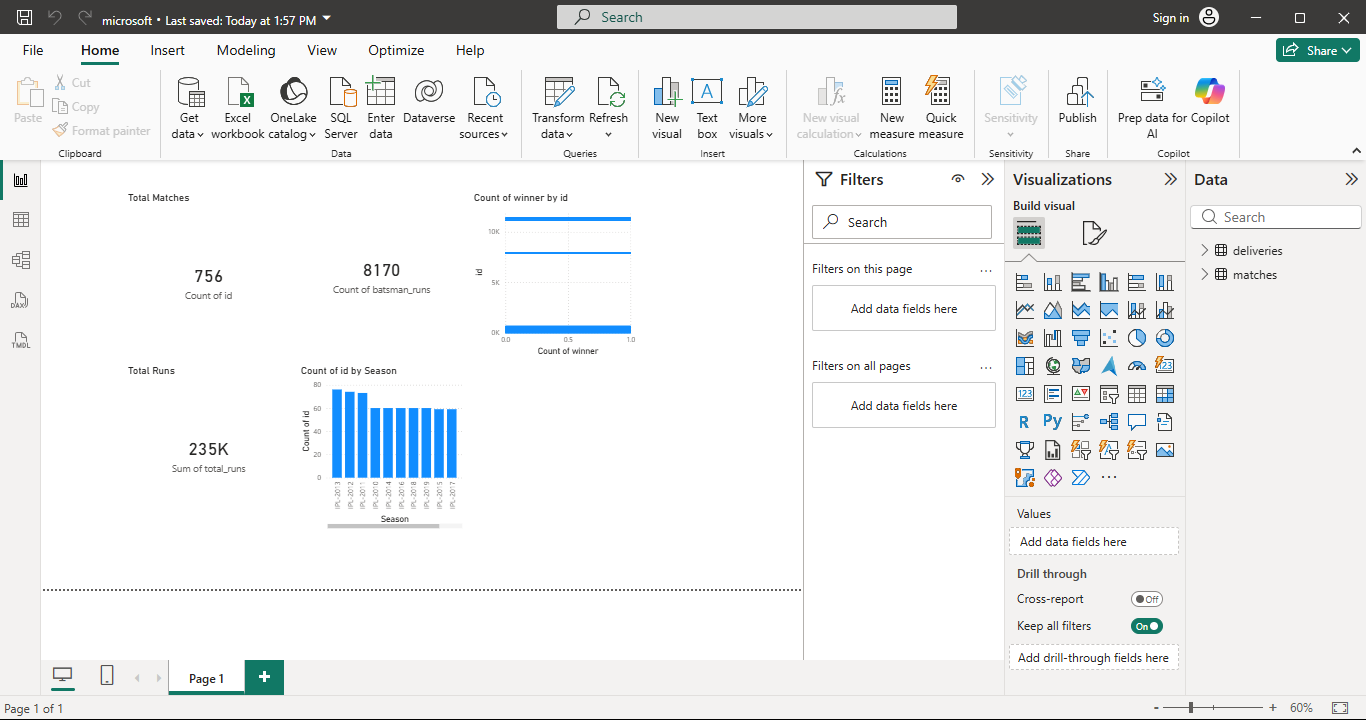

This screenshot's page, from the dashboard's own definition file:
{"tool":"powerbi","page":{"name":"Page 1","canvas":[1280,720],"ordinal":0},"visuals":[{"type":"card","title":"Total Matches","fields":{"Values":["Count(matches.id)"]},"box":[141.1,52.1,280.5,280.5],"z":0},{"type":"card","title":"Total Runs","fields":{"Values":["Sum(deliveries.total_runs)"]},"box":[141,343,281,281],"z":1},{"type":"card","fields":{"Values":["CountNonNull(deliveries.batsman_runs)"]},"box":[432,52,281,281],"z":2},{"type":"clusteredColumnChart","fields":{"Category":["matches.Season"],"Y":["CountNonNull(matches.id)"]},"box":[432,343,281,281],"z":3},{"type":"barChart","fields":{"Y":["CountNonNull(matches.winner)"],"Category":["matches.id"]},"box":[723,52,281,281],"z":4}]}

Visuals, with their boxes on the page's 1280x720 design canvas (x1, y1, x2, y2). These are canvas units, not pixel positions in the 1366x720 screenshot, which may show the page scaled, cropped or inside an application window:
"Total Matches" card: (141,52,422,333)
"Total Runs" card: (141,343,422,624)
card - CountNonNull(deliveries.batsman_runs): (432,52,713,333)
clusteredColumnChart - matches.Season x CountNonNull(matches.id): (432,343,713,624)
barChart - CountNonNull(matches.winner) x matches.id: (723,52,1004,333)
